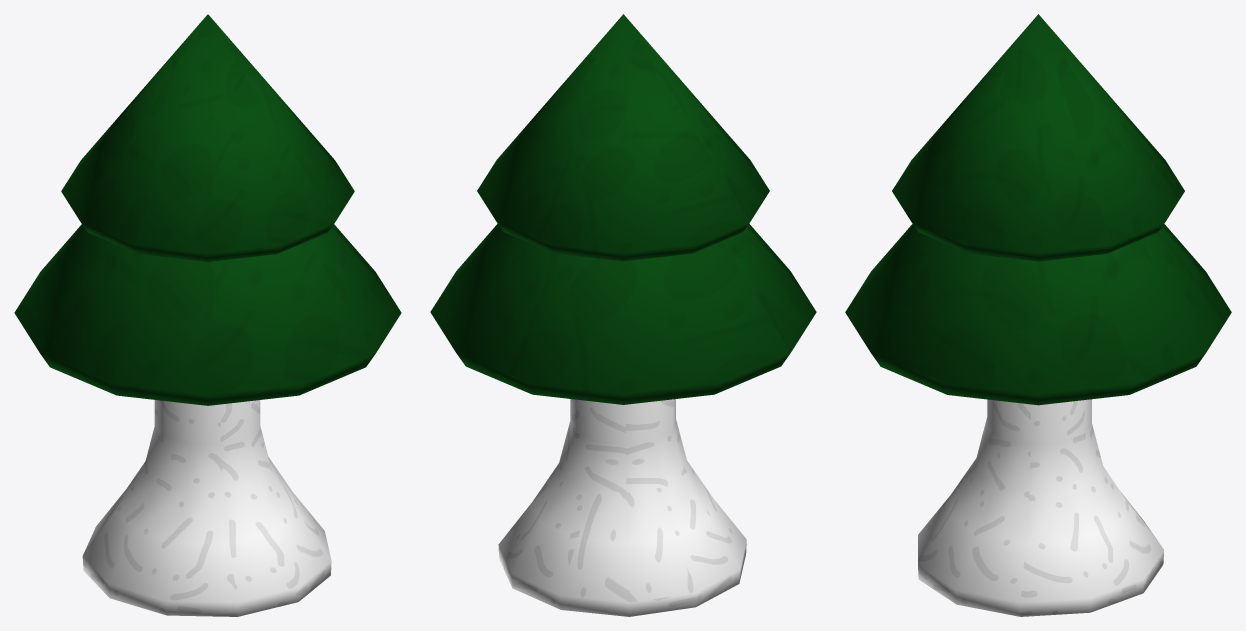
The model's file is tree.fbx.
The picture shows the model from 3 angles, left to right: view 1: azimuth 30°, elevation 25°; view 2: azimuth 150°, elevation 25°; view 3: azimuth 270°, elevation 25°; orthographic projection.
Visible parts, largest first — view 1: Tree_LOD0; view 2: Tree_LOD0; view 3: Tree_LOD0.
Boxes of the visible parts, x1,y1,x2,y2 form: Tree_LOD0: (14, 14, 401, 616); Tree_LOD0: (430, 14, 816, 616); Tree_LOD0: (845, 14, 1231, 616).
Size of what is drawn, in the model's own units: 511 by 813 by 511.
